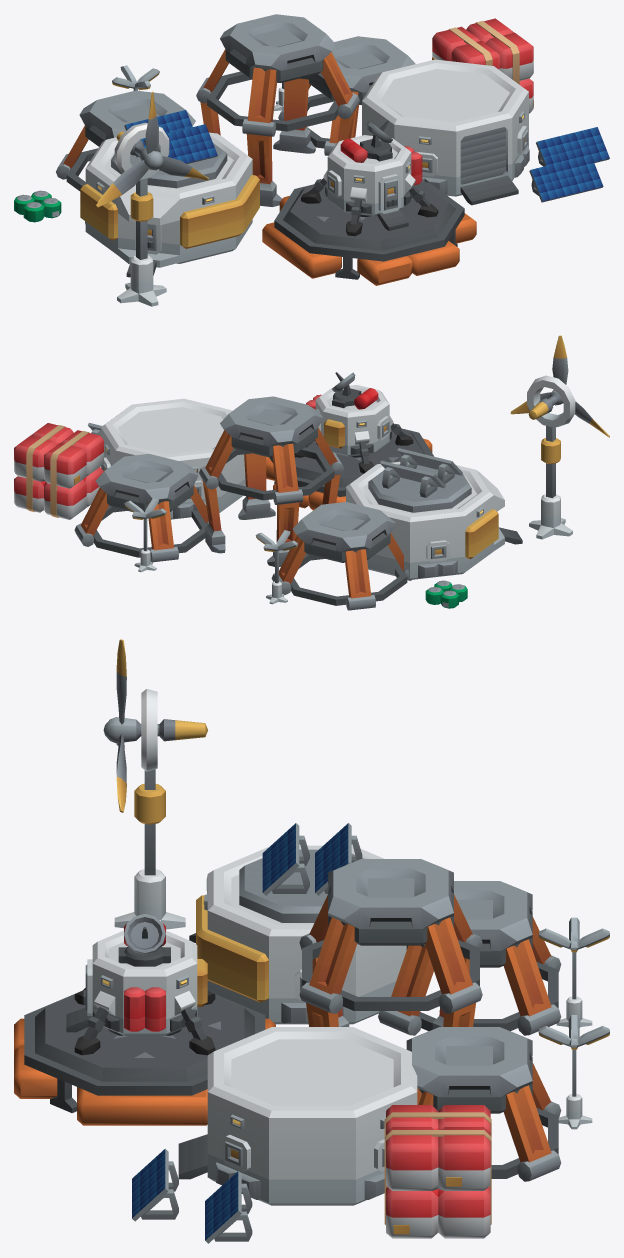
3 views of the same model, one above another, from view 1: azimuth 30°, elevation 25°; view 2: azimuth 150°, elevation 25°; view 3: azimuth 270°, elevation 25° (orthographic). The views are drawn at different scales.
Parts seen in each view (by area): view 1: basemodule_garage, structure_tall, landingpad_large, basemodule_A, lander_A, cargo_A_stacked, structure_low, structure_low.001, windturbine_tall_fan, roofmodule_solarpanels, windturbine_tall, solarpanel (+4 smaller); view 2: structure_tall, basemodule_A, basemodule_garage, structure_low, structure_low.001, cargo_A_stacked, lander_A, roofmodule_solarpanels, landingpad_large, windturbine_tall_fan, windturbine_tall, lights.001 (+2 smaller); view 3: basemodule_garage, structure_tall, landingpad_large, basemodule_A, cargo_A_stacked, lander_A, structure_low.001, structure_low, roofmodule_solarpanels, windturbine_tall_fan, windturbine_tall, solarpanel.001 (+3 smaller).
Boxes of the visible parts, <box> form: basemodule_garage: <box>362,59,529,205</box>; structure_tall: <box>196,14,359,206</box>; landingpad_large: <box>262,181,476,285</box>; basemodule_A: <box>80,132,259,277</box>; lander_A: <box>301,120,438,236</box>; cargo_A_stacked: <box>432,18,533,113</box>; structure_low: <box>56,90,195,191</box>; structure_low.001: <box>278,36,415,155</box>; windturbine_tall_fan: <box>96,91,208,207</box>; roofmodule_solarpanels: <box>111,110,227,188</box>; windturbine_tall: <box>117,178,166,306</box>; solarpanel: <box>529,155,603,202</box>; structure_tall: <box>199,396,343,566</box>; basemodule_A: <box>346,461,522,579</box>; basemodule_garage: <box>101,398,245,519</box>; structure_low: <box>271,502,414,610</box>; structure_low.001: <box>74,454,208,562</box>; cargo_A_stacked: <box>14,423,103,519</box>; lander_A: <box>294,372,413,473</box>; roofmodule_solarpanels: <box>368,448,471,512</box>; landingpad_large: <box>266,428,433,510</box>; windturbine_tall_fan: <box>510,335,609,437</box>; windturbine_tall: <box>529,426,572,539</box>; lights.001: <box>124,498,166,571</box>; basemodule_garage: <box>178,1027,417,1205</box>; structure_tall: <box>299,859,482,1029</box>; landingpad_large: <box>14,992,275,1125</box>; basemodule_A: <box>189,845,406,1024</box>; cargo_A_stacked: <box>384,1105,491,1238</box>; lander_A: <box>66,914,215,1055</box>; structure_low.001: <box>406,1027,561,1181</box>; structure_low: <box>378,881,561,1035</box>; roofmodule_solarpanels: <box>239,823,363,922</box>; windturbine_tall_fan: <box>103,639,207,812</box>; windturbine_tall: <box>114,769,185,929</box>; solarpanel.001: <box>205,1171,252,1243</box>.
Bounding box in the file's own units: 8.08 × 3.01 × 5.69.
1 material, 1 textured.
